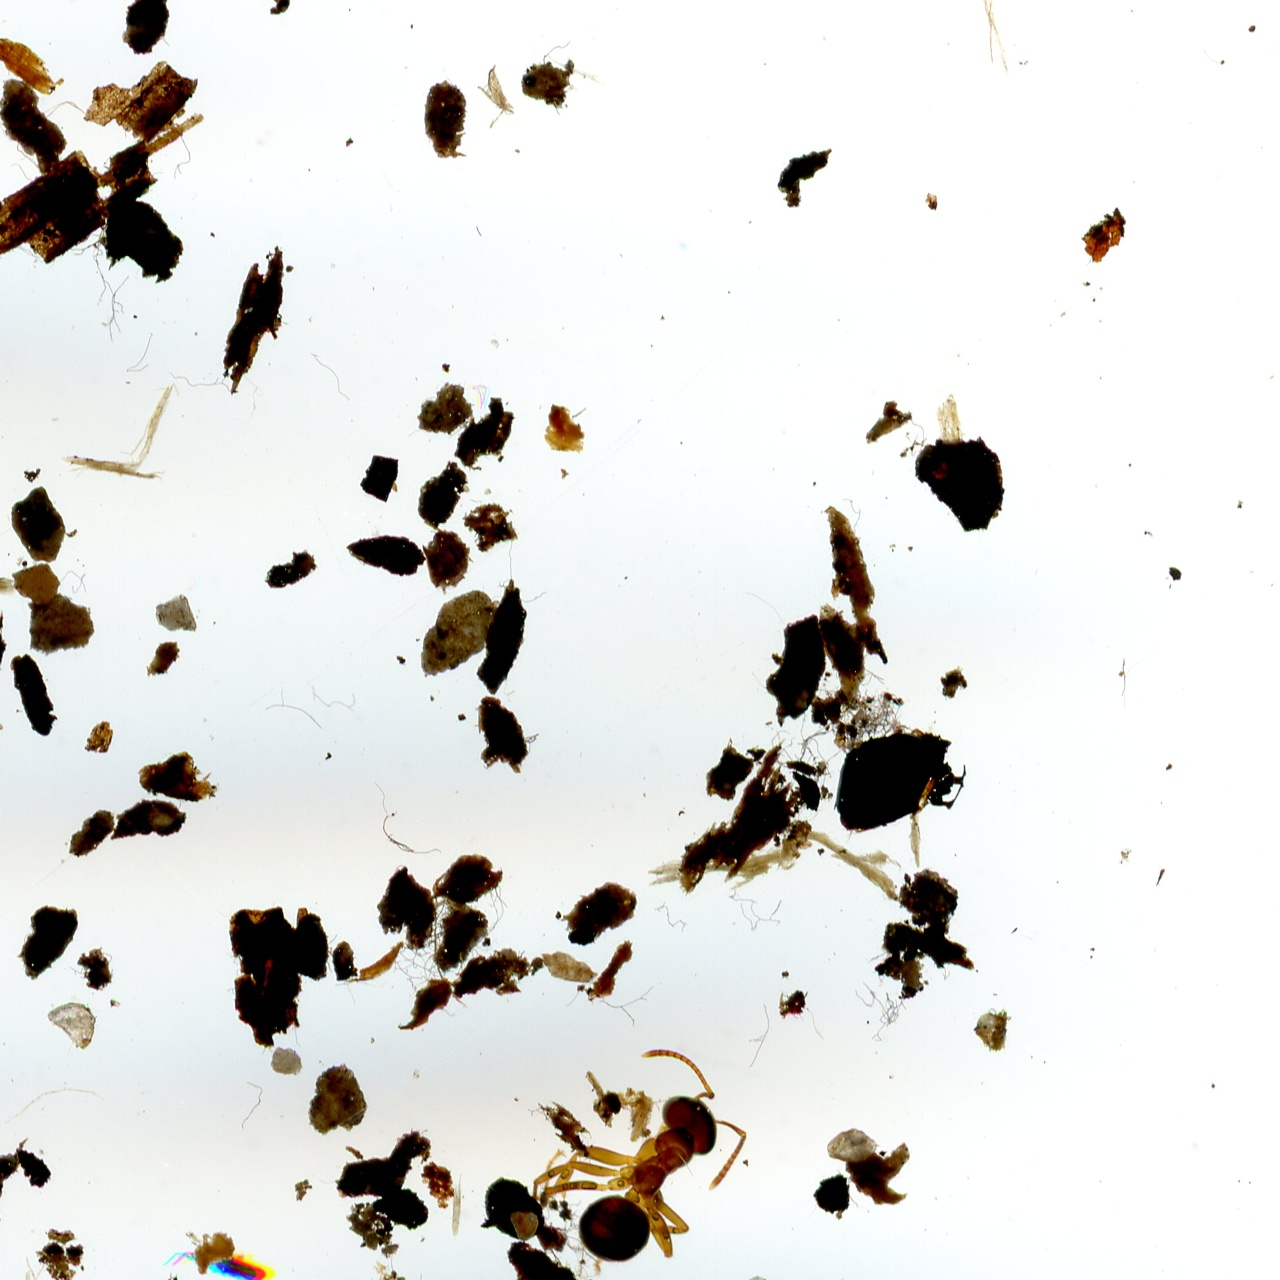arthropod: (505, 1027, 788, 1280), (157, 1232, 284, 1280)
